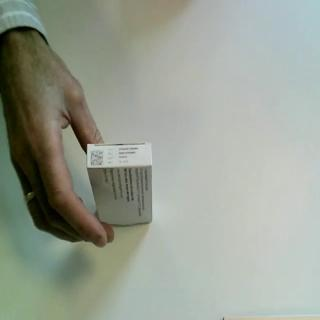oxycontin15mg: (86, 141, 154, 229)
